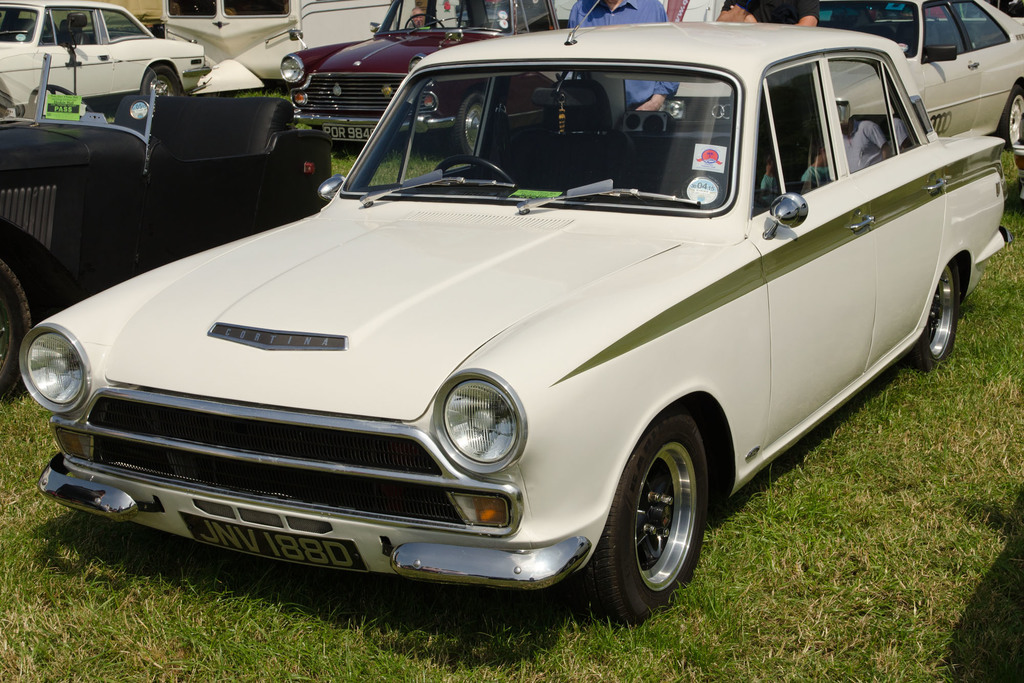cars: (0, 0, 1023, 623)
